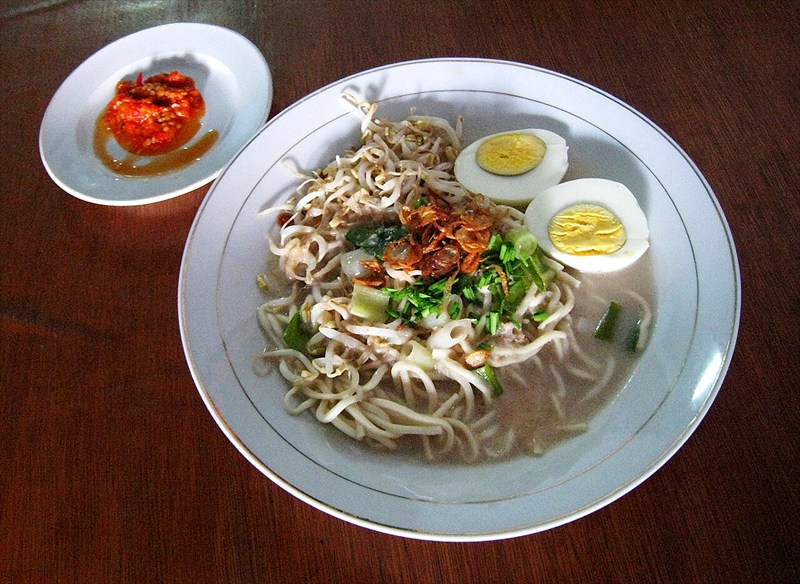Telur Balado: (112, 43, 708, 449)
